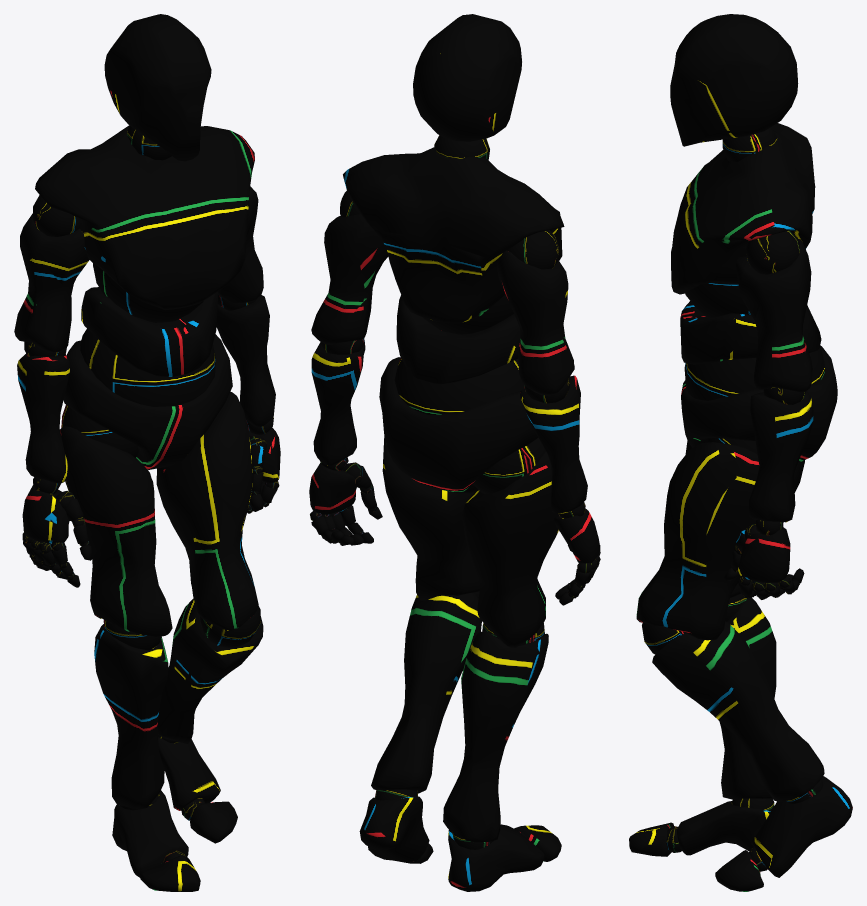
Rendered from y-bot-origin_000013.obj.
The picture shows the model from 3 angles, left to right: view 1: azimuth 30°, elevation 25°; view 2: azimuth 150°, elevation 25°; view 3: azimuth 270°, elevation 25°; orthographic projection. The views are drawn at different scales.
Visible parts, largest first — view 1: Alpha_Surface_Alpha_SurfaceMesh, Alpha_Joints_Alpha_JointsMesh; view 2: Alpha_Surface_Alpha_SurfaceMesh, Alpha_Joints_Alpha_JointsMesh; view 3: Alpha_Surface_Alpha_SurfaceMesh, Alpha_Joints_Alpha_JointsMesh.
Part boxes in pixels (left/top/right/bottom): Alpha_Surface_Alpha_SurfaceMesh: left=14, top=14, right=280, bottom=891; Alpha_Joints_Alpha_JointsMesh: left=22, top=125, right=279, bottom=862; Alpha_Surface_Alpha_SurfaceMesh: left=309, top=14, right=600, bottom=891; Alpha_Joints_Alpha_JointsMesh: left=310, top=135, right=600, bottom=862; Alpha_Surface_Alpha_SurfaceMesh: left=629, top=14, right=852, bottom=891; Alpha_Joints_Alpha_JointsMesh: left=642, top=126, right=825, bottom=871.
Size of the model in its own units: 0.587 by 1.79 by 0.4311.
